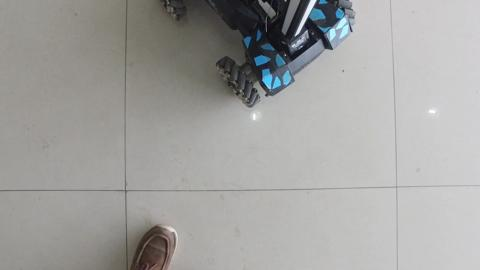chariot: (137, 4, 372, 111)
